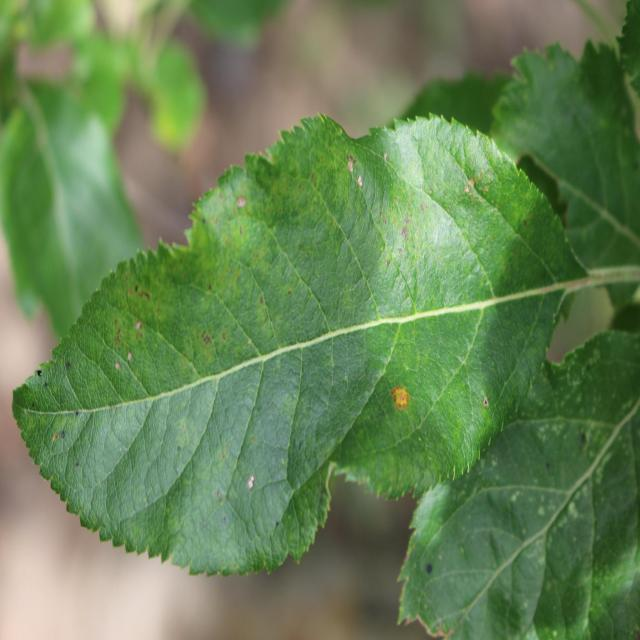Rust: (393, 381, 411, 415)
